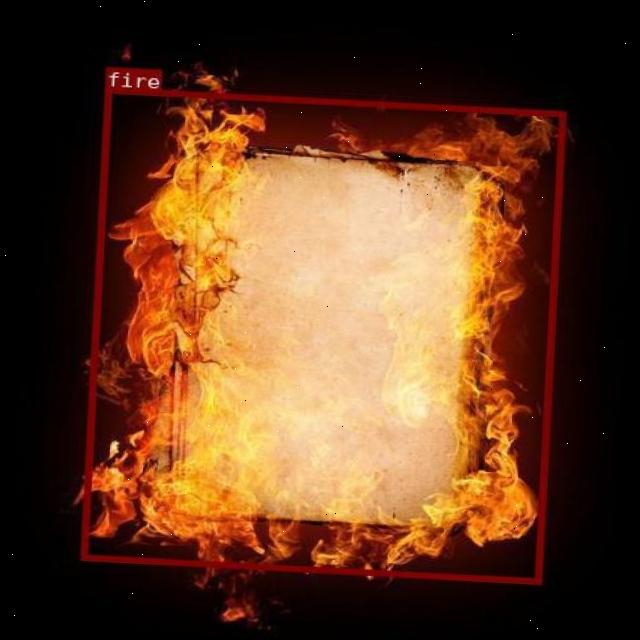fire: (79, 86, 564, 584)
